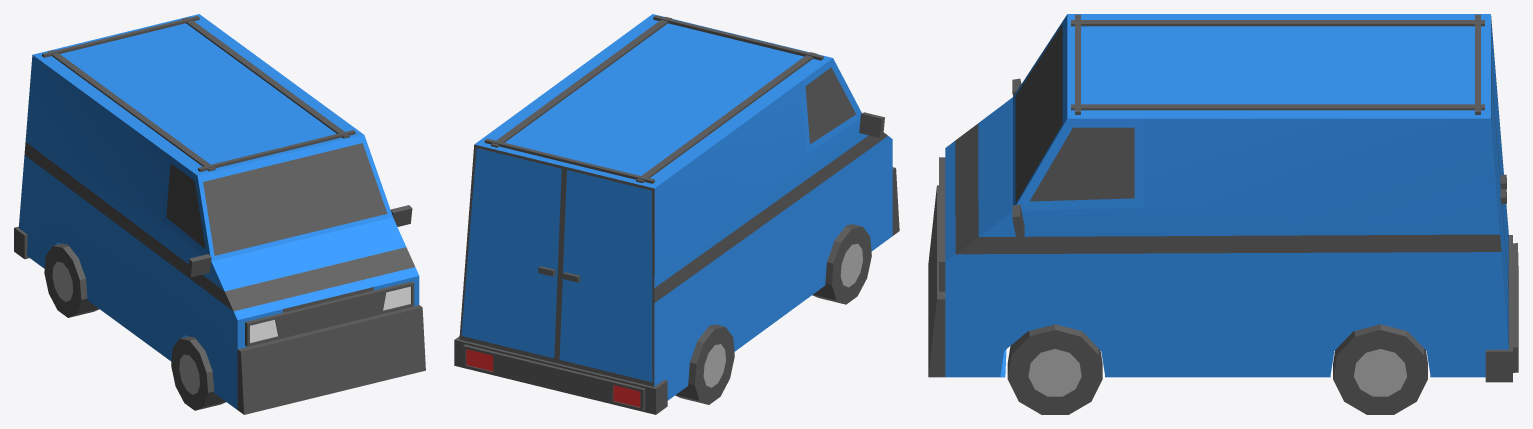
The model's file is SM_Car_04_02.FBX.
3 renders of one model, left to right at view 1: azimuth 30°, elevation 25°; view 2: azimuth 150°, elevation 25°; view 3: azimuth 270°, elevation 25°, orthographic. The views are drawn at different scales.
Visible parts, largest first — view 1: SM_Car_04_02, SM_Wheel_RBack001, SM_Wheel_LFront002; view 2: SM_Car_04_02, SM_Wheel_RBack001, SM_Wheel_LFront002; view 3: SM_Car_04_02, SM_Wheel_LFront001, SM_Wheel_LBack001.
Boxes of the visible parts, x1,y1,x2,y2 form: SM_Car_04_02: (14, 14, 425, 414); SM_Wheel_RBack001: (44, 243, 99, 317); SM_Wheel_LFront002: (171, 336, 225, 410); SM_Car_04_02: (454, 14, 899, 414); SM_Wheel_RBack001: (675, 324, 734, 404); SM_Wheel_LFront002: (812, 224, 871, 304); SM_Car_04_02: (928, 14, 1518, 382); SM_Wheel_LFront001: (1007, 324, 1102, 414); SM_Wheel_LBack001: (1333, 324, 1427, 414).
Bounding box in the file's own units: 1.7 × 1.68 × 3.08.
Materials: 1 (1 with a texture image).
